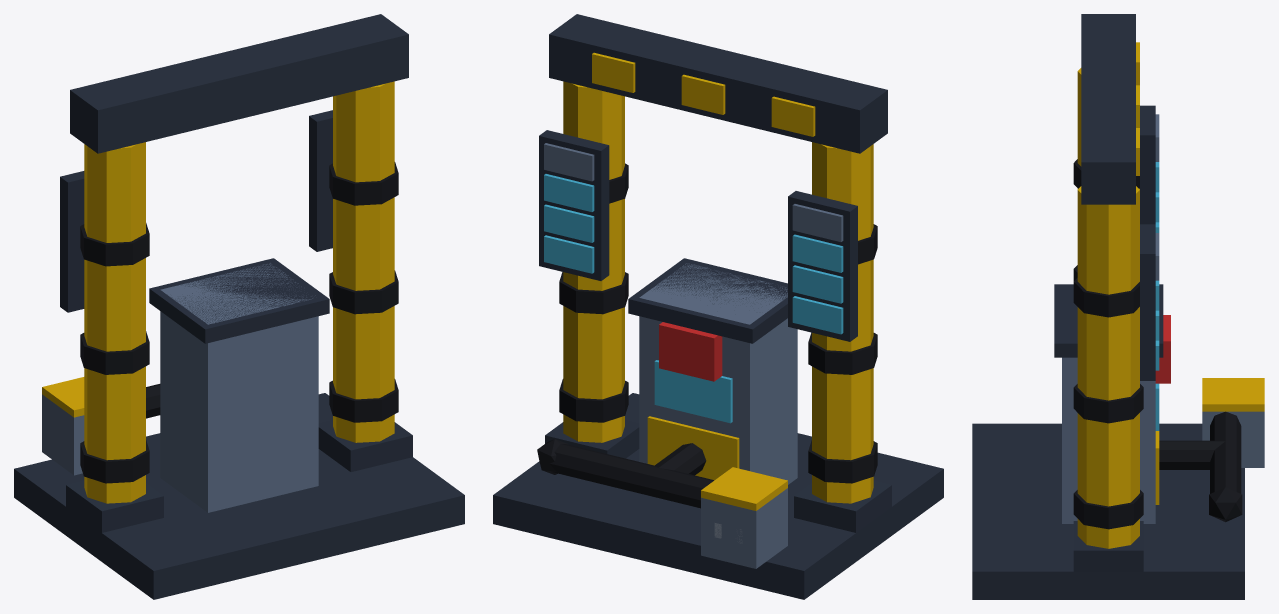
Rendered from Decor_MechaHangar_ChargeDock.fbx.
3 renders of one model, left to right at view 1: azimuth 30°, elevation 25°; view 2: azimuth 150°, elevation 25°; view 3: azimuth 270°, elevation 25°, orthographic. The views are drawn at different scales.
Visible parts, largest first — view 1: ChargeDock_Body; view 2: ChargeDock_Body; view 3: ChargeDock_Body.
Boxes of the visible parts, x1=… form: ChargeDock_Body: x1=14, y1=14, x2=464, y2=599; ChargeDock_Body: x1=493, y1=14, x2=943, y2=599; ChargeDock_Body: x1=972, y1=14, x2=1264, y2=599.
Size of the model in its own units: 9 by 12.4 by 7.5.
